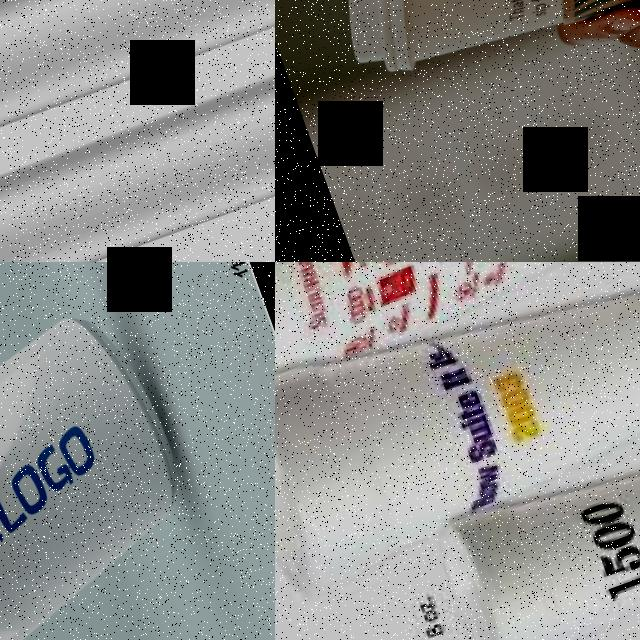can: (0, 296, 236, 640), (0, 36, 275, 262), (0, 0, 275, 185)
cup: (275, 262, 640, 617), (275, 262, 640, 477), (430, 418, 640, 640), (304, 0, 640, 121)
